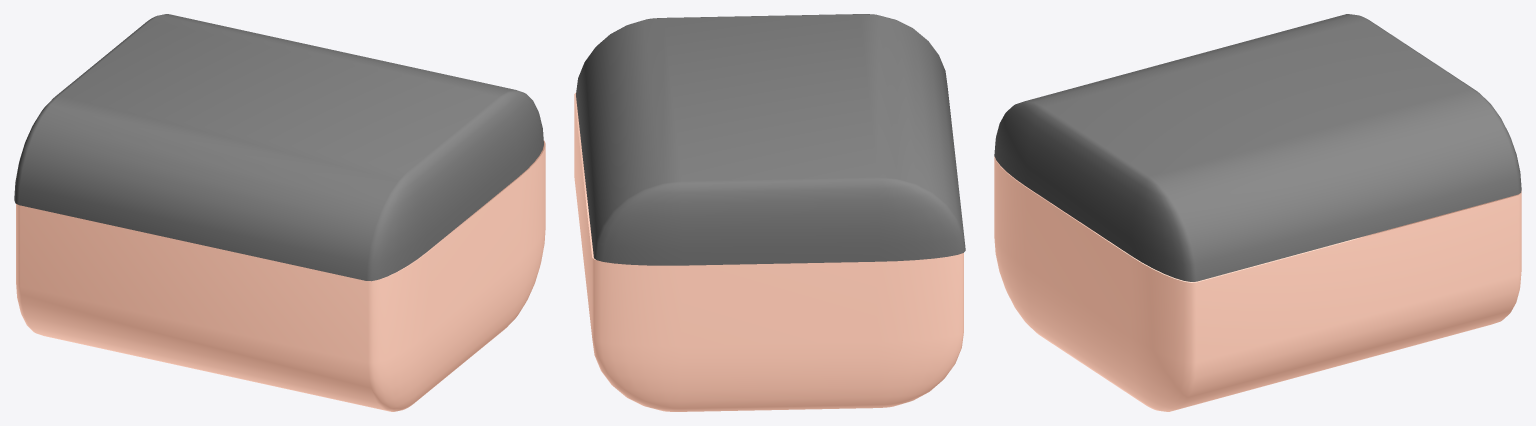
Rendered from knife.FBX.
3 renders of one model, left to right at view 1: azimuth 30°, elevation 25°; view 2: azimuth 150°, elevation 25°; view 3: azimuth 270°, elevation 25°, orthographic. The views are drawn at different scales.
Visible parts, largest first — view 1: ceiling, fon; view 2: ceiling, fon; view 3: ceiling, fon.
Boxes of the visible parts, box(x1,y1,x2,y2) form: ceiling: box(14, 14, 543, 281); fon: box(16, 140, 545, 411); ceiling: box(576, 14, 965, 265); fon: box(574, 93, 963, 411); ceiling: box(994, 14, 1521, 281); fon: box(994, 156, 1521, 411).
Bounding box in the file's own units: 764 × 370 × 775.
